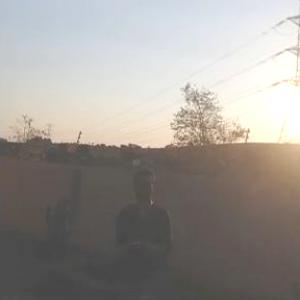follow: (107, 154, 178, 299)
